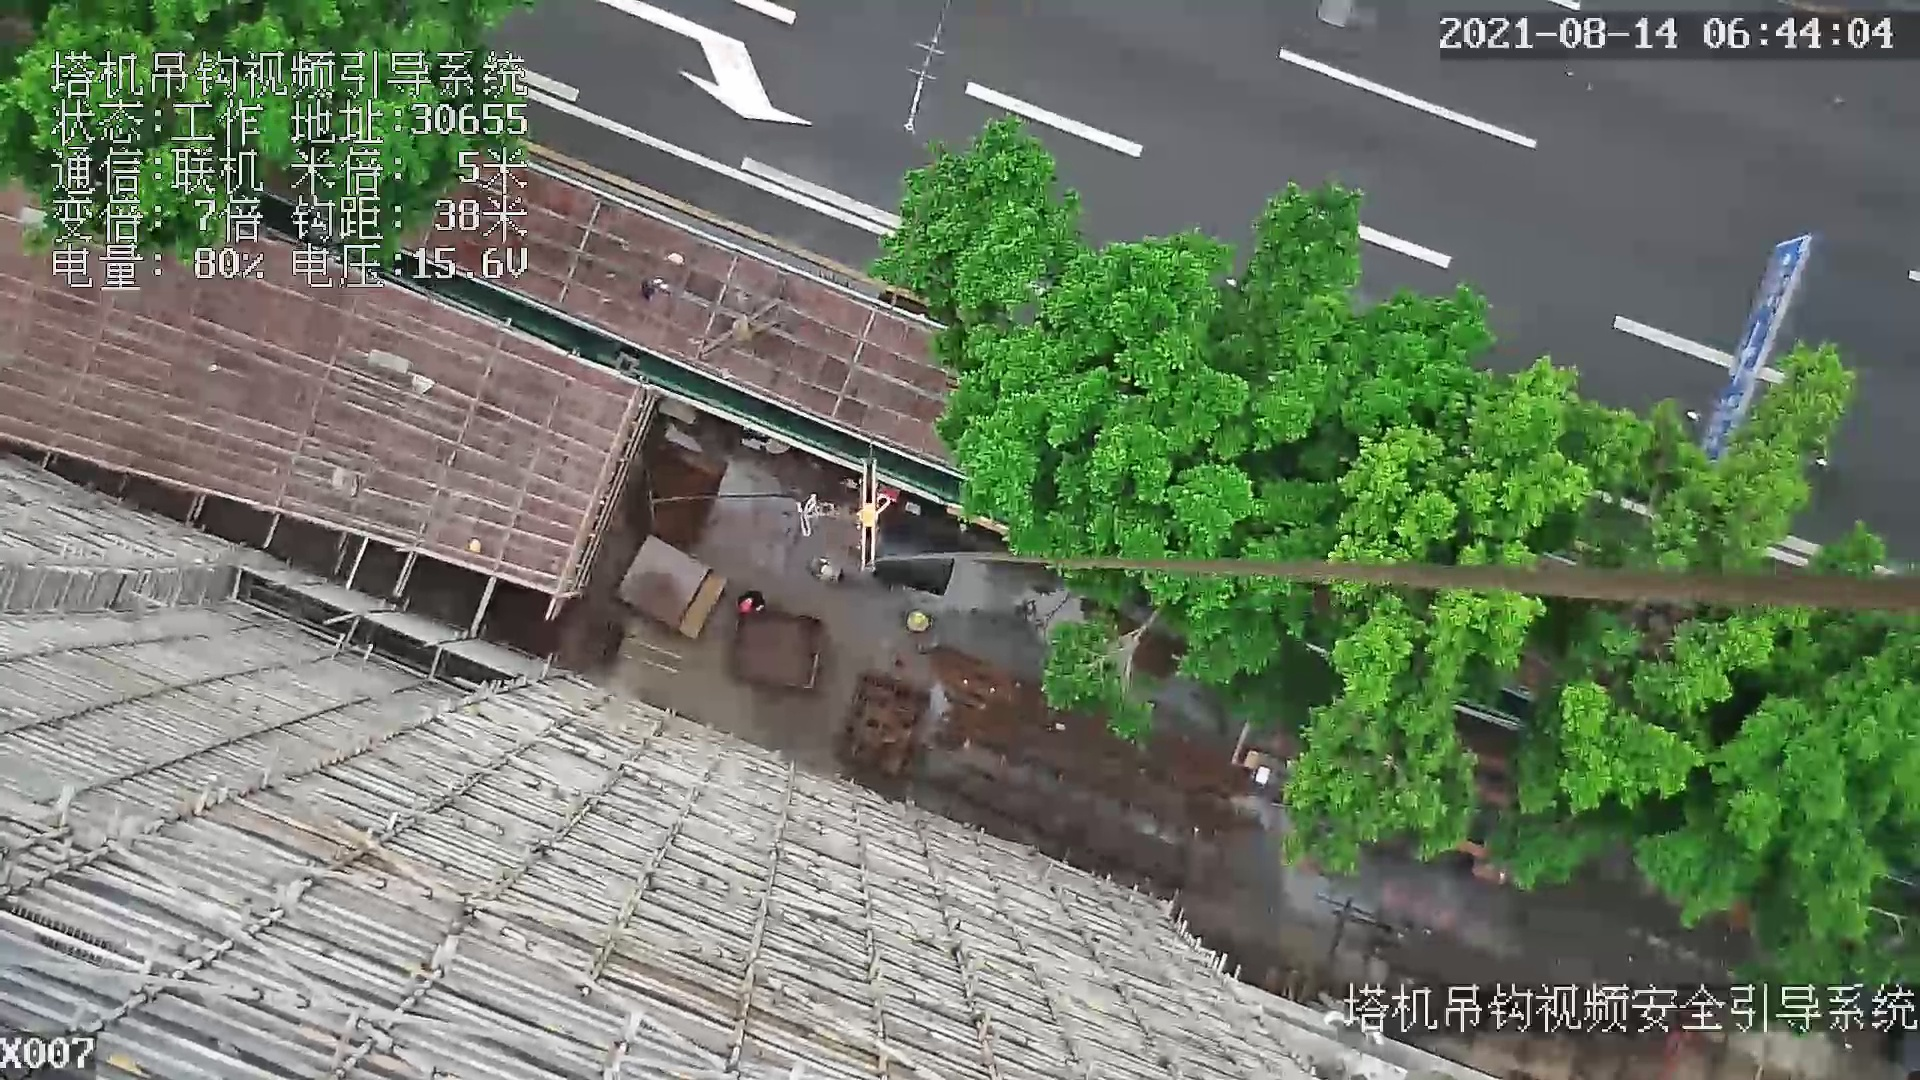helmet: (465, 536, 485, 555), (824, 565, 837, 580), (914, 612, 927, 626), (739, 602, 749, 611)
person: (804, 550, 843, 587), (734, 585, 770, 617), (900, 606, 936, 634)
